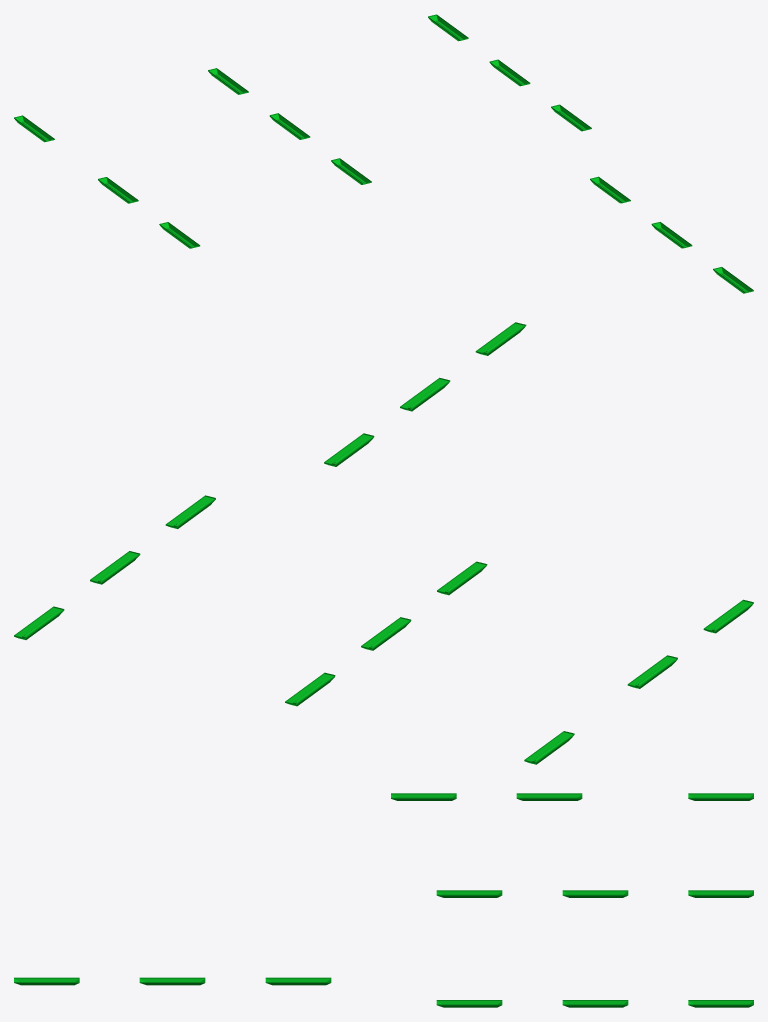
Rendered from light.FBX.
The picture shows the model from 3 angles, top to bottom: view 1: azimuth 30°, elevation 25°; view 2: azimuth 150°, elevation 25°; view 3: azimuth 270°, elevation 25°; orthographic projection. The views are drawn at different scales.
Visible parts, largest first — view 1: Light; view 2: Light; view 3: Light.
Part boxes in pixels (x1,y1,x2,y2): Light: (14, 14, 753, 293); Light: (14, 322, 753, 764); Light: (14, 793, 753, 1007).
Size of the model in its own units: 1155 by 11.26 by 1713.
